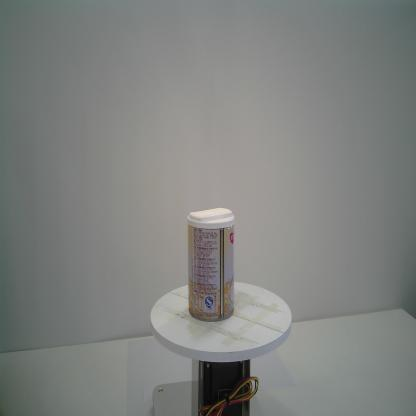Canned Food: (186, 205, 236, 324)
